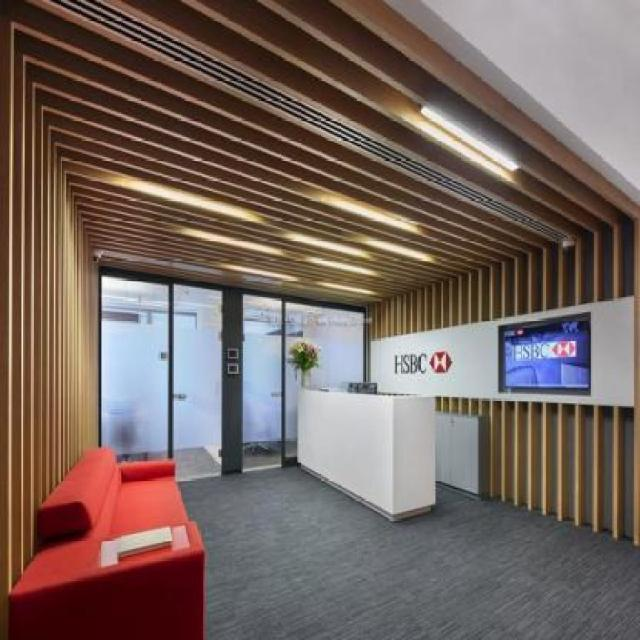frontdesk: (295, 372, 443, 527)
